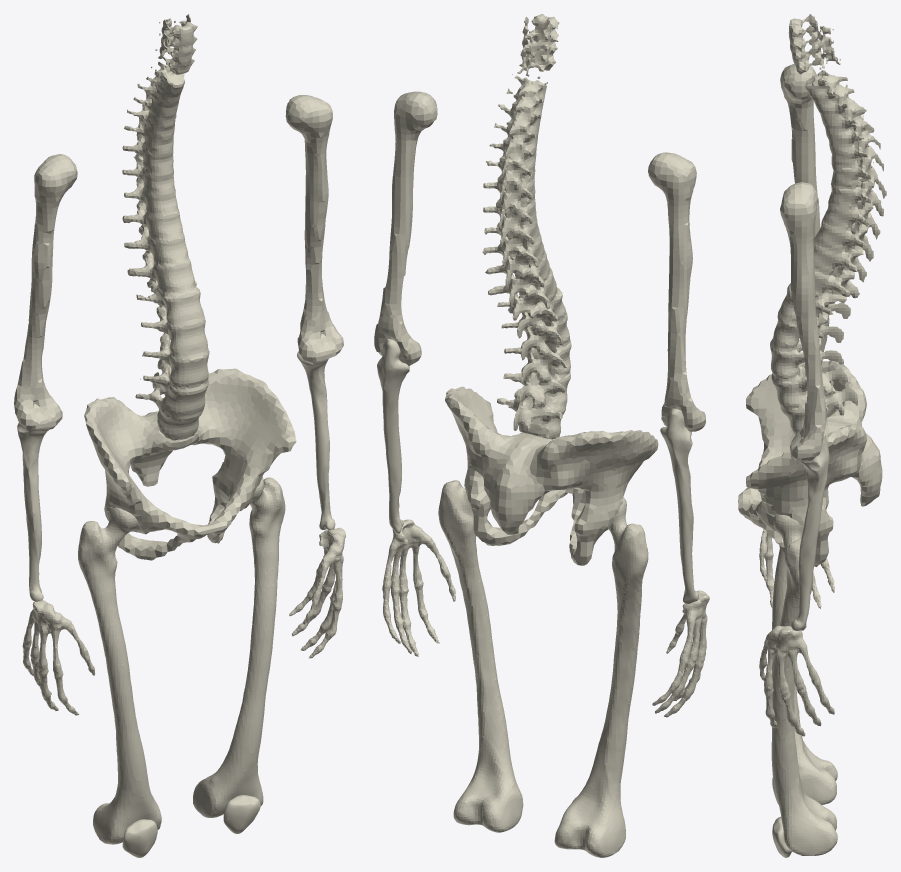
Rendered from skelett_update_f.gltf.
3 views of the same model, side by side, from view 1: azimuth 30°, elevation 25°; view 2: azimuth 150°, elevation 25°; view 3: azimuth 270°, elevation 25° (orthographic).
Parts seen in each view (by area): view 1: Object_13, Object_5, Object_12, Object_9, Object_17, Object_10, Object_20; view 2: Object_13, Object_5, Object_12, Object_9, Object_17, Object_10; view 3: Object_5, Object_12, Object_13, Object_9, Object_17, Object_10, Object_20.
Boxes of the visible parts, bbox=[...] form: Object_13: bbox=[78, 477, 285, 844]; Object_5: bbox=[122, 14, 209, 440]; Object_12: bbox=[84, 368, 296, 560]; Object_9: bbox=[14, 95, 343, 429]; Object_17: bbox=[22, 527, 345, 715]; Object_10: bbox=[17, 351, 335, 601]; Object_20: bbox=[122, 795, 260, 857]; Object_13: bbox=[438, 480, 648, 857]; Object_5: bbox=[482, 14, 571, 439]; Object_12: bbox=[445, 386, 658, 565]; Object_9: bbox=[374, 91, 705, 431]; Object_17: bbox=[382, 519, 709, 717]; Object_10: bbox=[377, 339, 698, 604]; Object_5: bbox=[770, 14, 886, 435]; Object_12: bbox=[738, 360, 882, 566]; Object_13: bbox=[771, 514, 837, 855]; Object_9: bbox=[780, 64, 826, 461]; Object_17: bbox=[759, 529, 834, 736]; Object_10: bbox=[791, 318, 829, 630]; Object_20: bbox=[772, 777, 792, 857].
Bounding box in the file's own units: 1.87 × 4.54 × 0.7518.
